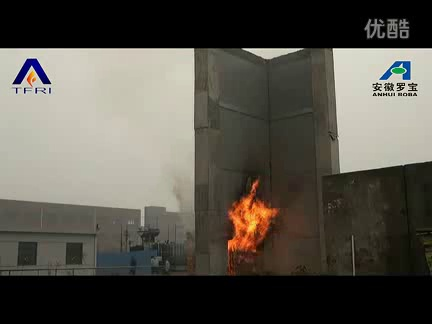fire: (220, 175, 282, 262)
